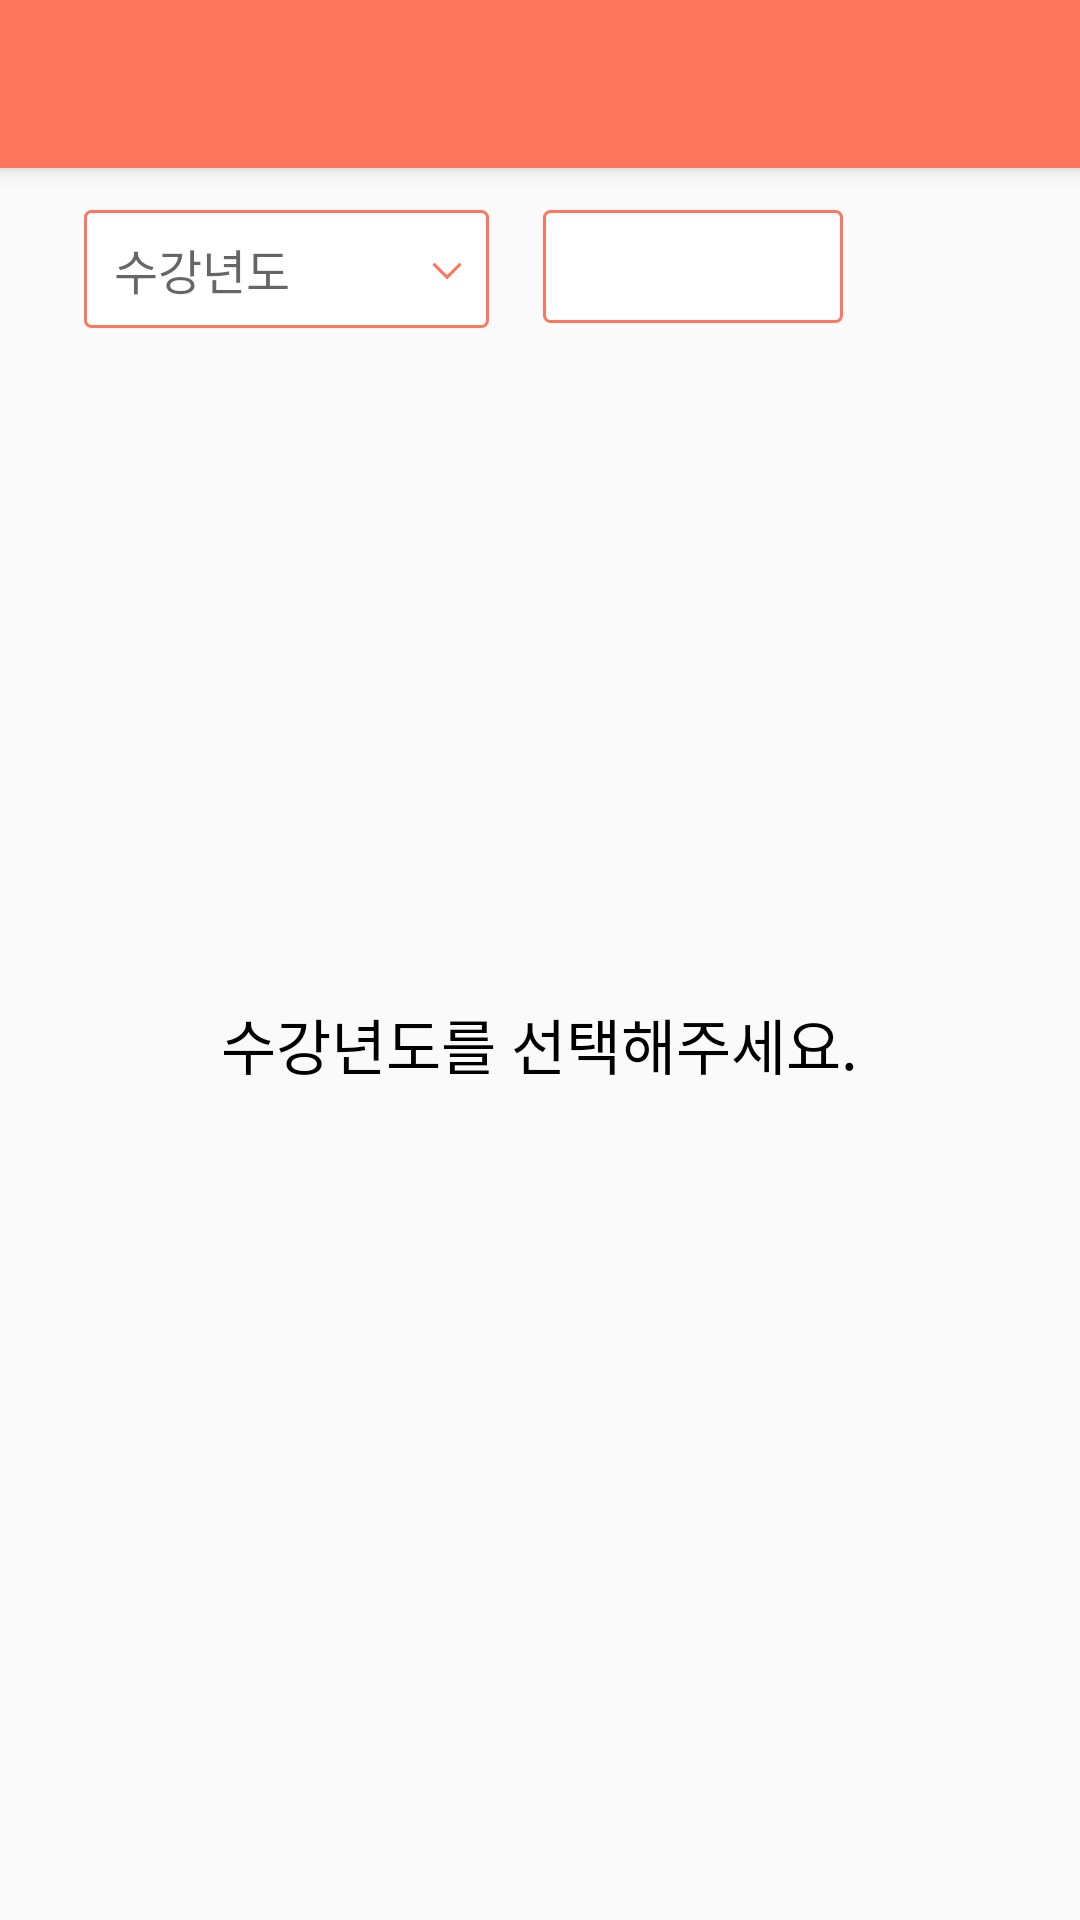

Icons on this 1080px×1920px Android screen, each with the point to tap as [x,y]:
expand arrow: [447,271]
